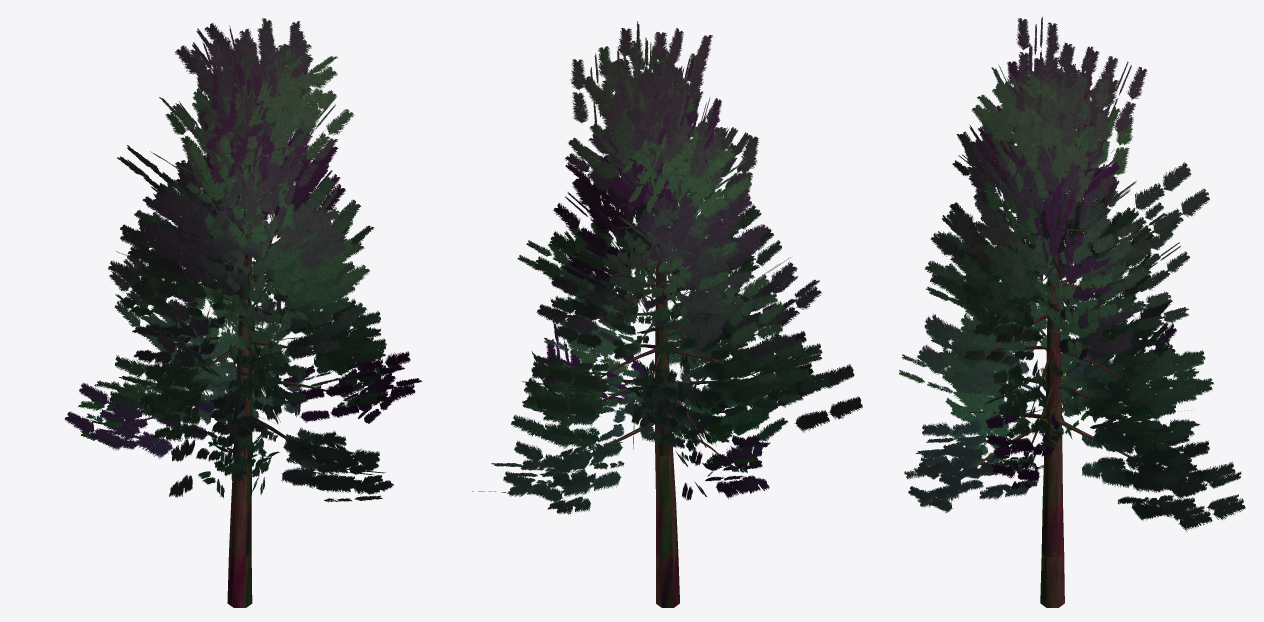
Rendered from nat_pine_b_LOD1.glb.
3 renders of one model, left to right at view 1: azimuth 30°, elevation 25°; view 2: azimuth 150°, elevation 25°; view 3: azimuth 270°, elevation 25°, orthographic. The views are drawn at different scales.
Parts seen in each view (by area): view 1: nat_pine_b_LOD1; view 2: nat_pine_b_LOD1; view 3: nat_pine_b_LOD1.
Boxes of the visible parts, x1,y1,x2,y2 form: nat_pine_b_LOD1: [64, 18, 422, 607]; nat_pine_b_LOD1: [472, 21, 862, 607]; nat_pine_b_LOD1: [899, 16, 1245, 607].
Bounding box in the file's own units: 6.08 × 10.32 × 5.7.
2 materials, 2 textured.
